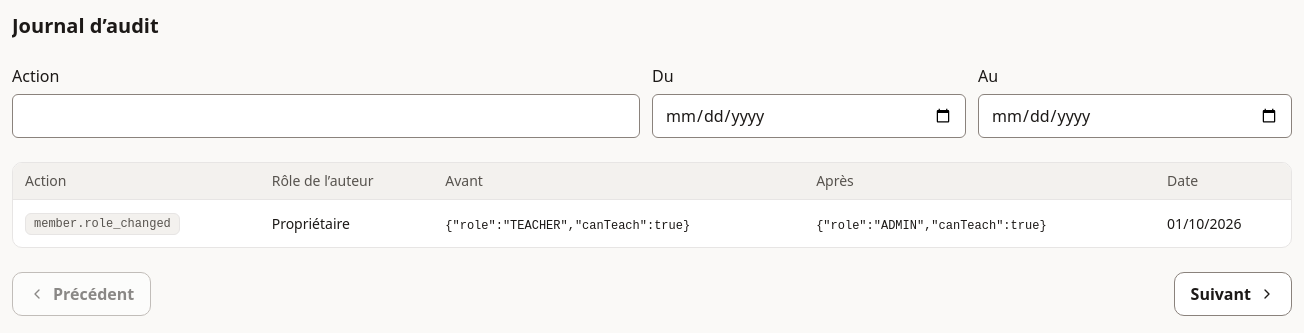
Scenario: AuditLogPanel › disables Suivant during the filter debounce (no cursor from another result set)
Expected: the button "Suivant" is enabled, top-left (1174, 272), bottom-right (1292, 316)
Type "member" into the search field labelled "Action".
click(326, 116); type("member")  # box top-left (12, 94), bottom-right (640, 138)
Wait 100 ms
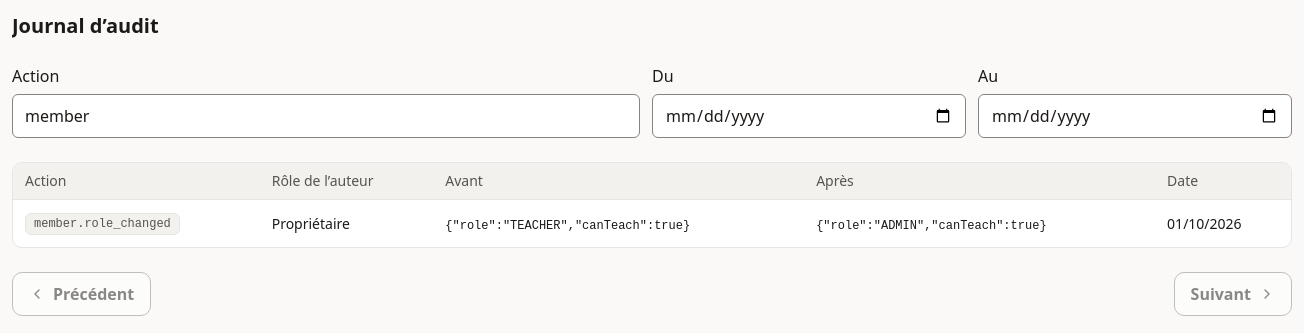
Expected: the button "Suivant" is disabled
Click the button "Suivant".
click(1233, 294)  # box top-left (1174, 272), bottom-right (1292, 316)
Wait 300 ms
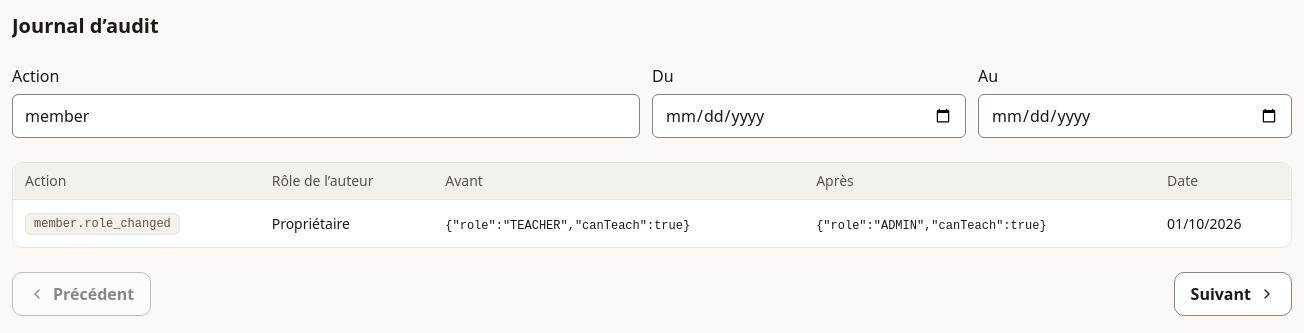
Expected: the button "Suivant" is enabled, top-left (1174, 272), bottom-right (1292, 316)
